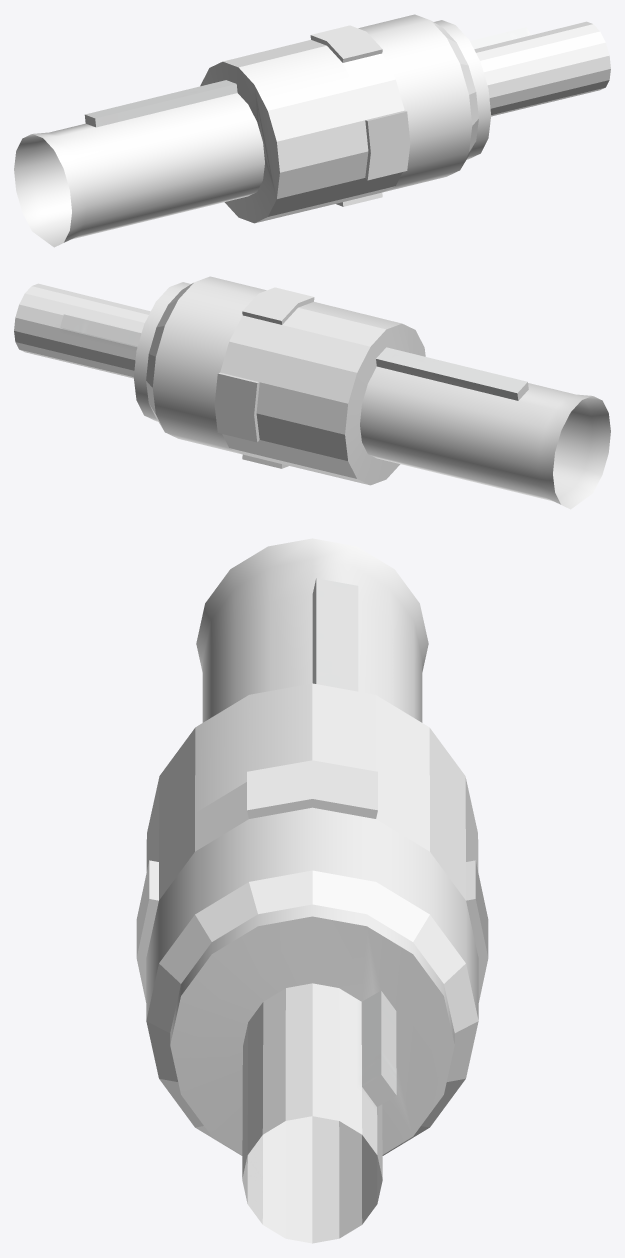
The model's file is MotorShaft.fbx.
3 views of the same model, one above another, from view 1: azimuth 30°, elevation 25°; view 2: azimuth 150°, elevation 25°; view 3: azimuth 270°, elevation 25° (orthographic). The views are drawn at different scales.
Visible parts, largest first — view 1: MotorShaft; view 2: MotorShaft; view 3: MotorShaft.
Boxes of the visible parts, bbox=[...] form: MotorShaft: bbox=[14, 14, 610, 247]; MotorShaft: bbox=[14, 276, 610, 509]; MotorShaft: bbox=[136, 538, 488, 1243].
Bounding box in the file's own units: 0.8229 × 0.2277 × 0.2277.
